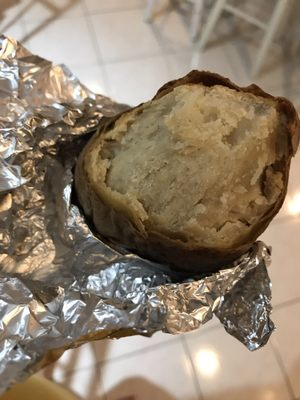soup: (72, 66, 298, 274)
